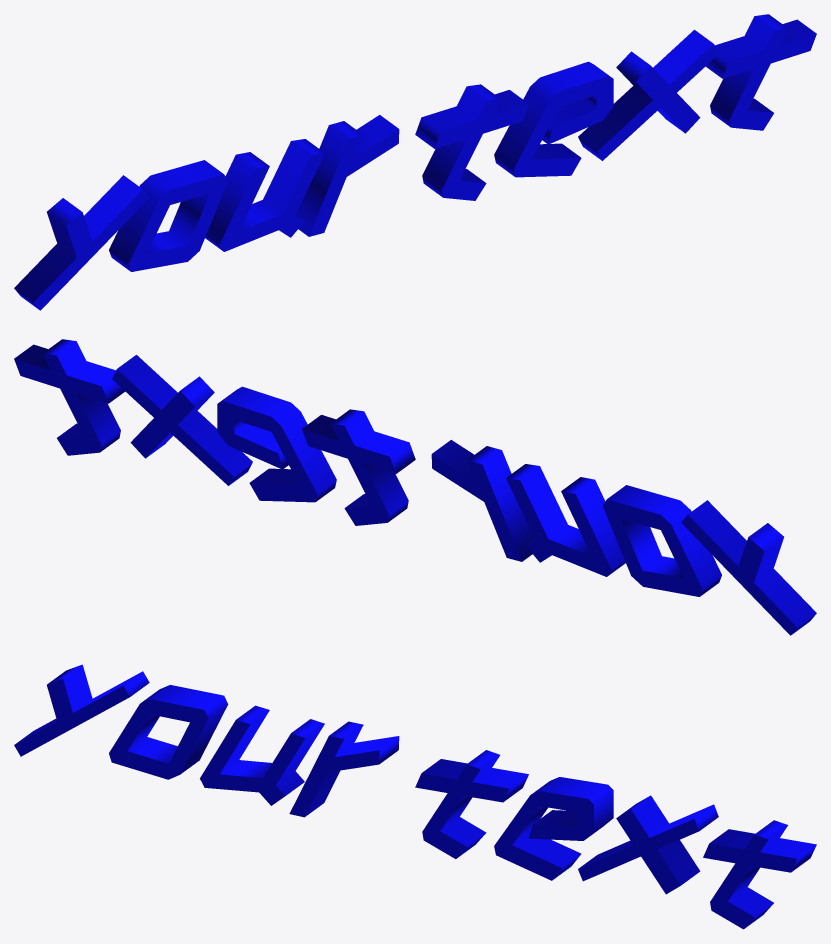
3 renders of one model, top to bottom at view 1: azimuth 30°, elevation 25°; view 2: azimuth 150°, elevation 25°; view 3: azimuth 330°, elevation 25°, orthographic.
Parts seen in each view (by area): view 1: your text; view 2: your text; view 3: your text.
Part boxes in pixels (x1,y1,x2,y2): your text: (14,14,816,310); your text: (14,339,816,635); your text: (14,664,816,929).
Bounding box in the file's own units: 9.23 × 1.15 × 0.4.
